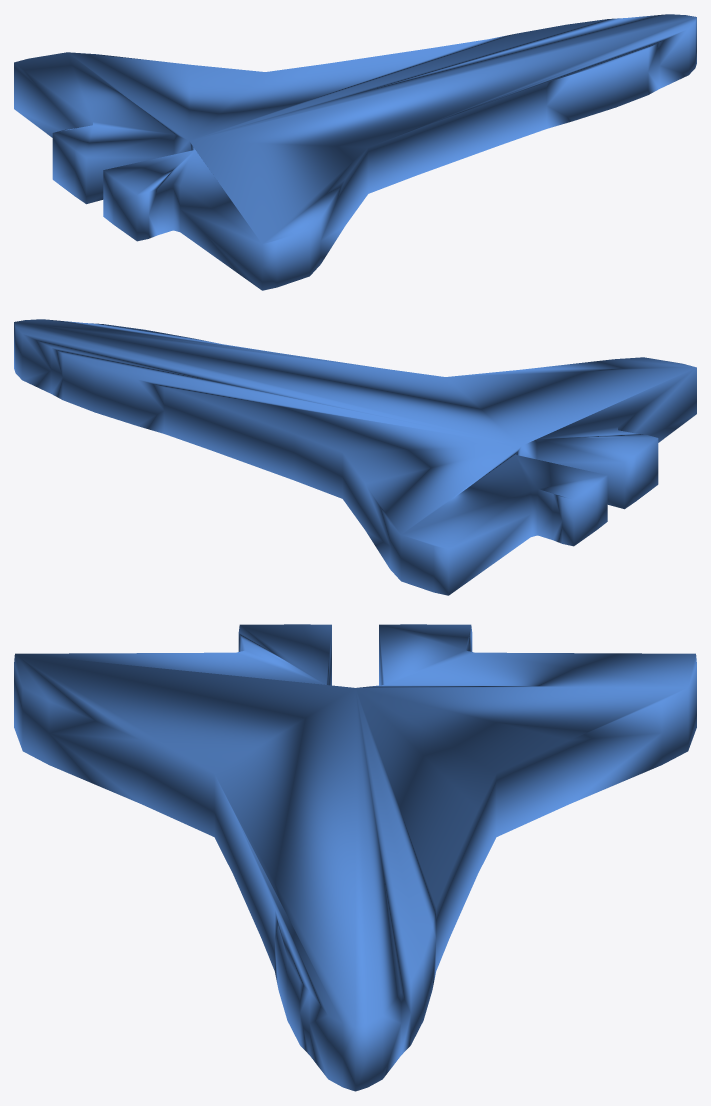
Rendered from Discovery.obj.
3 views of the same model, one above another, from view 1: azimuth 30°, elevation 25°; view 2: azimuth 150°, elevation 25°; view 3: azimuth 270°, elevation 25° (orthographic). The views are drawn at different scales.
Visible parts, largest first — view 1: Line001; view 2: Line001; view 3: Line001.
Boxes of the visible parts, <box> form: Line001: <box>14,14,696,290</box>; Line001: <box>14,319,696,595</box>; Line001: <box>14,624,696,1091</box>.
Size of the model in its own units: 2.96 by 0.2184 by 2.12.
